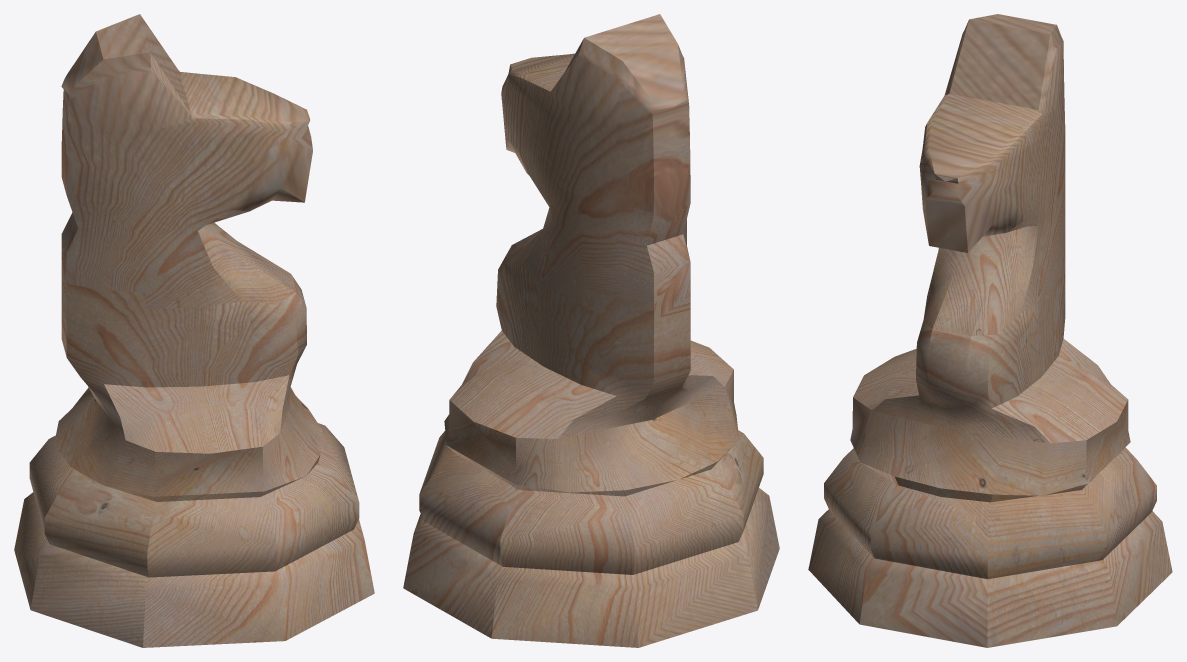
File: WhiteKnight.gltf
3 views of the same model, side by side, from view 1: azimuth 30°, elevation 25°; view 2: azimuth 150°, elevation 25°; view 3: azimuth 270°, elevation 25° (orthographic). The views are drawn at different scales.
Parts seen in each view (by area): view 1: Object_10; view 2: Object_10; view 3: Object_10.
Part boxes in pixels (left/top/right/bottom): Object_10: left=14, top=14, right=374, bottom=647; Object_10: left=403, top=14, right=779, bottom=647; Object_10: left=808, top=14, right=1172, bottom=647.
Bounding box in the file's own units: 0.0297 × 0.0472 × 0.0297.
Materials: 1 (1 with a texture image).
